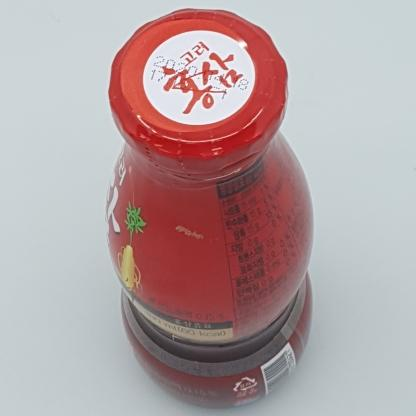------180ML: (104, 8, 314, 411)
